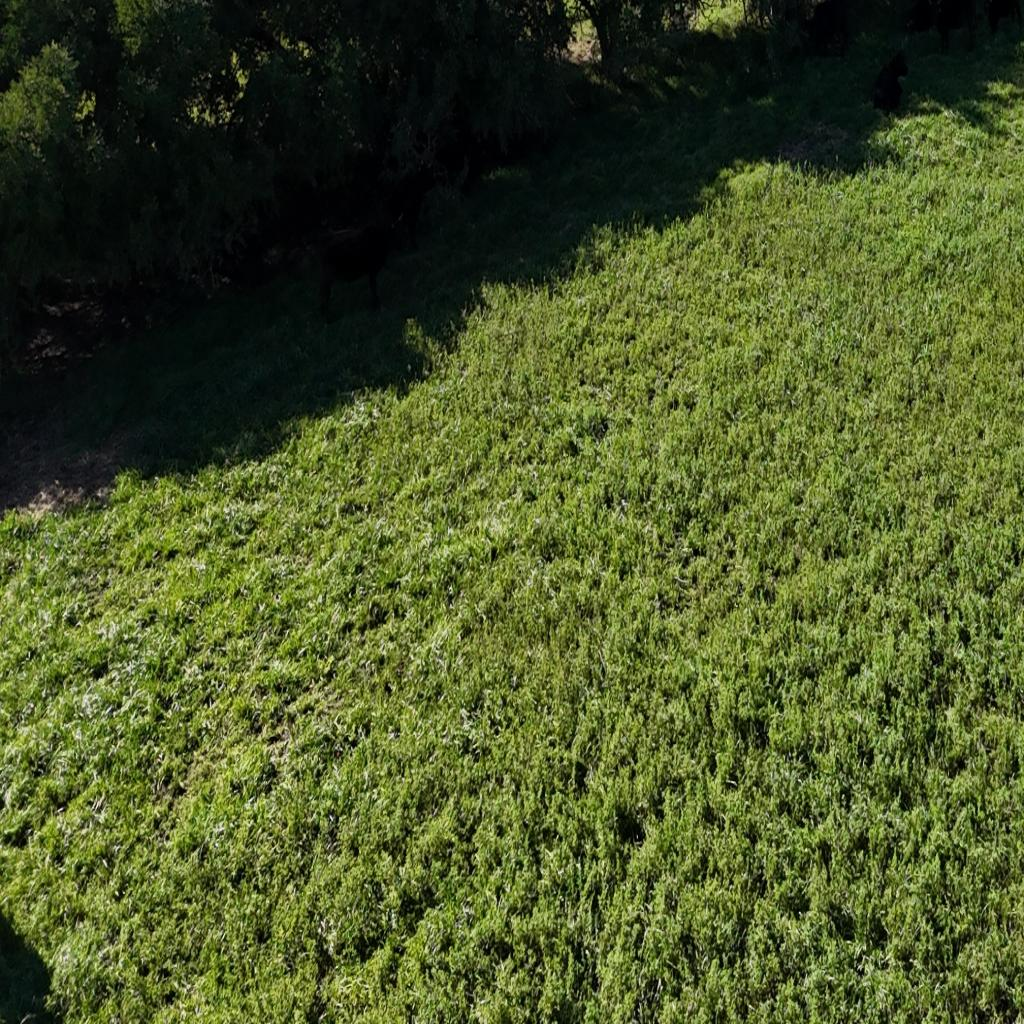cow: (310, 150, 438, 323), (902, 0, 1021, 58), (798, 0, 850, 60)
